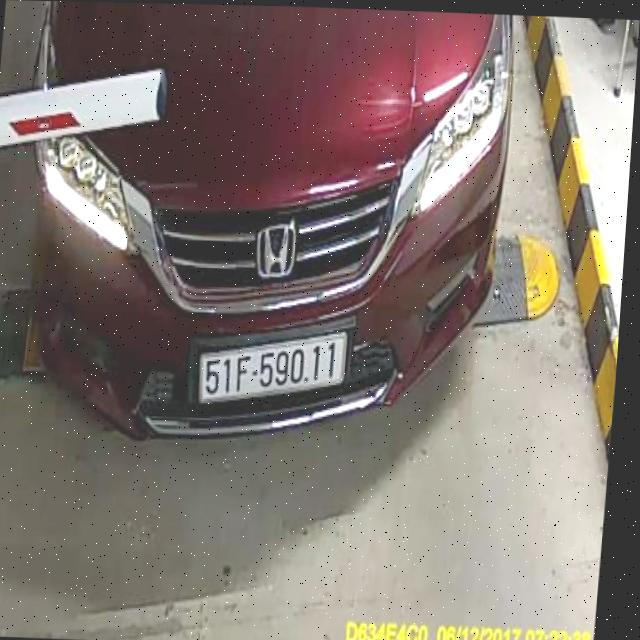car: (0, 1, 525, 463)
plate: (195, 331, 352, 406)
